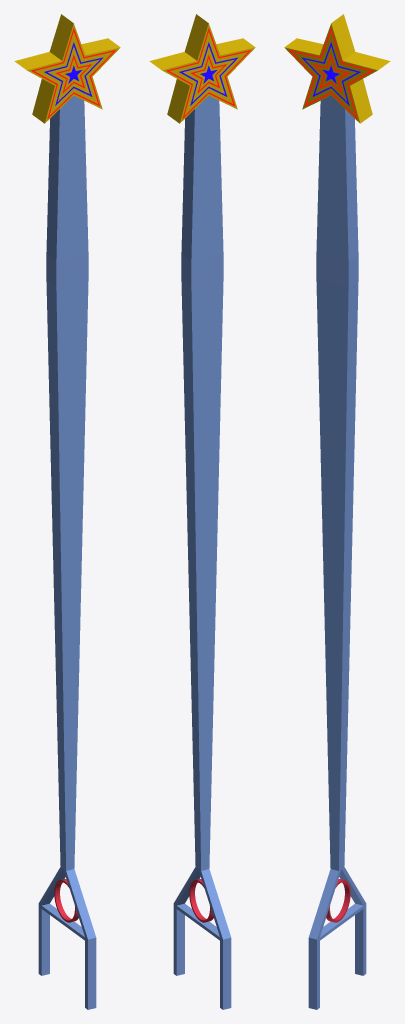
File: capriolo.glb
3 views of the same model, side by side, from view 1: azimuth 30°, elevation 25°; view 2: azimuth 210°, elevation 25°; view 3: azimuth 330°, elevation 25° (orthographic).
Parts seen in each view (by area): view 1: Cube; view 2: Cube; view 3: Cube.
Boxes of the visible parts, x1=… form: Cube: x1=14, y1=14, x2=120, y2=1009; Cube: x1=149, y1=14, x2=255, y2=1009; Cube: x1=284, y1=14, x2=390, y2=1009.
Bounding box in the file's own units: 3.8 × 37.6 × 3.47.
